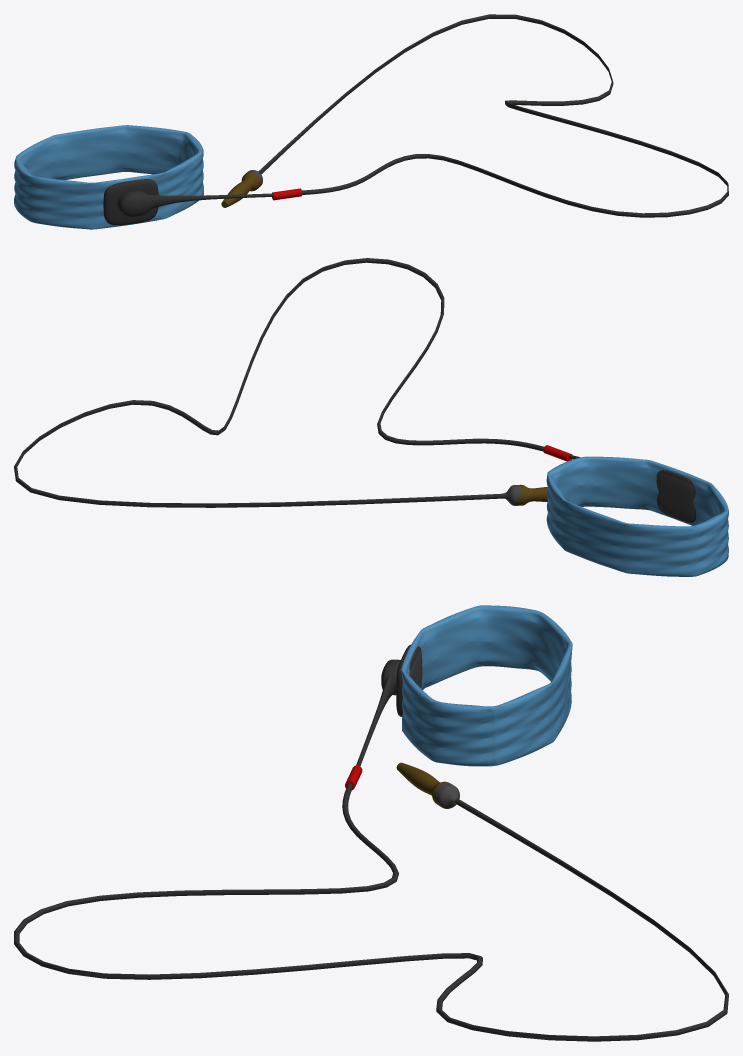
File: Браслет.fbx
3 renders of one model, top to bottom at view 1: azimuth 30°, elevation 25°; view 2: azimuth 150°, elevation 25°; view 3: azimuth 270°, elevation 25°, orthographic. The views are drawn at different scales.
Parts seen in each view (by area): view 1: ESD Strap0, ESD Strap1; view 2: ESD Strap0; view 3: ESD Strap0, ESD Strap1.
Part boxes in pixels (box(x1,y1,x2,y2)): ESD Strap0: box(14, 14, 728, 229); ESD Strap1: box(221, 172, 261, 207); ESD Strap0: box(14, 258, 728, 576); ESD Strap0: box(14, 605, 728, 1041); ESD Strap1: box(396, 762, 456, 805).
Size of the model in its own units: 3.81 by 0.3327 by 3.06.
